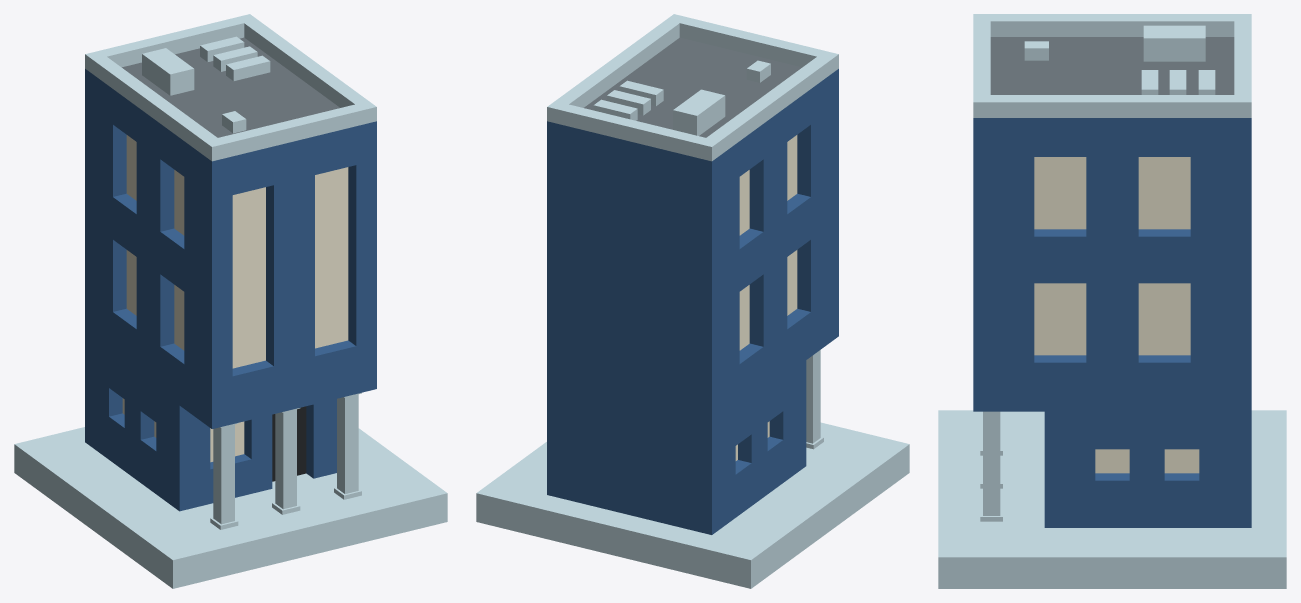
Rendered from Building_9_Base_Extra (Blue).obj.
3 renders of one model, left to right at view 1: azimuth 30°, elevation 25°; view 2: azimuth 150°, elevation 25°; view 3: azimuth 270°, elevation 25°, orthographic. The views are drawn at different scales.
Visible parts, largest first — view 1: Building_9_Base_Extra_(Blue); view 2: Building_9_Base_Extra_(Blue); view 3: Building_9_Base_Extra_(Blue).
Boxes of the visible parts, bbox=[...] form: Building_9_Base_Extra_(Blue): bbox=[14, 14, 447, 588]; Building_9_Base_Extra_(Blue): bbox=[476, 14, 909, 588]; Building_9_Base_Extra_(Blue): bbox=[938, 14, 1286, 588].
Bounding box in the file's own units: 2 × 2.95 × 2.
